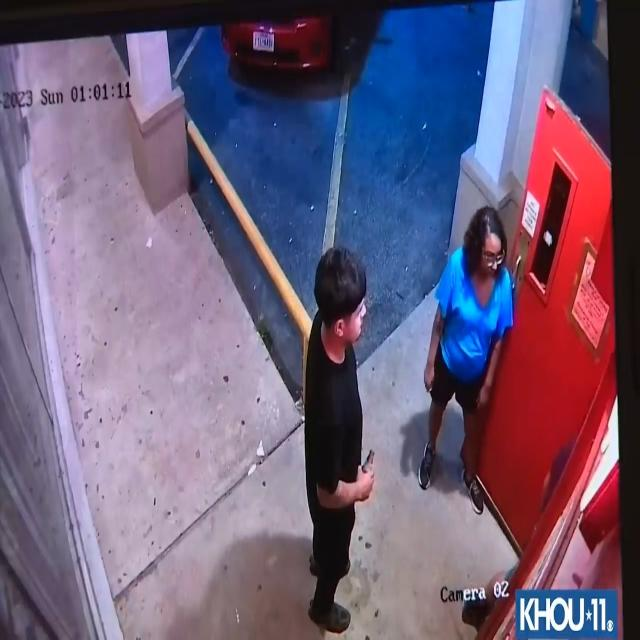Person: (300, 249, 384, 635), (419, 204, 518, 528)
